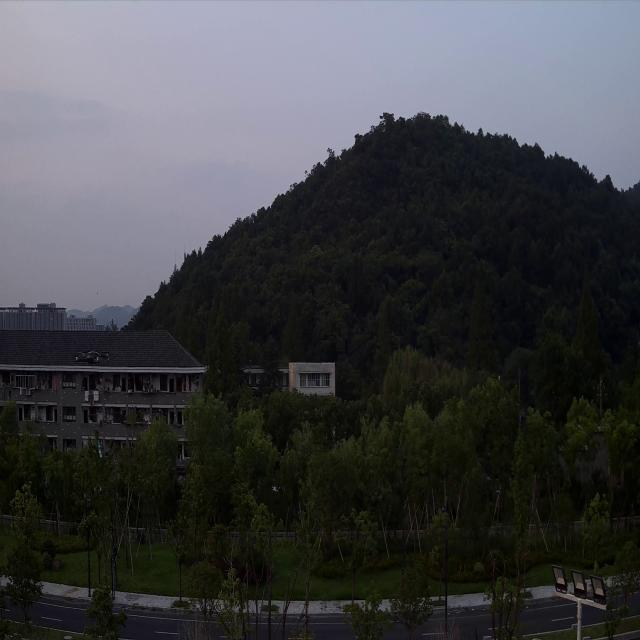UAV: (75, 350, 111, 363)
